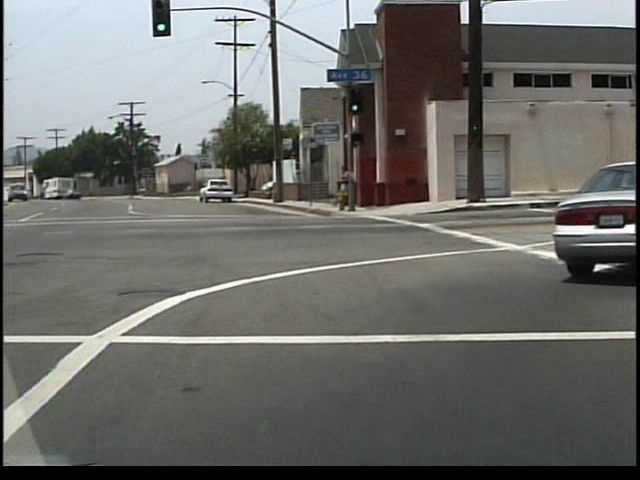person: (342, 166, 361, 213)
